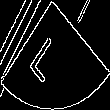L_NE: (35, 26, 75, 84)
